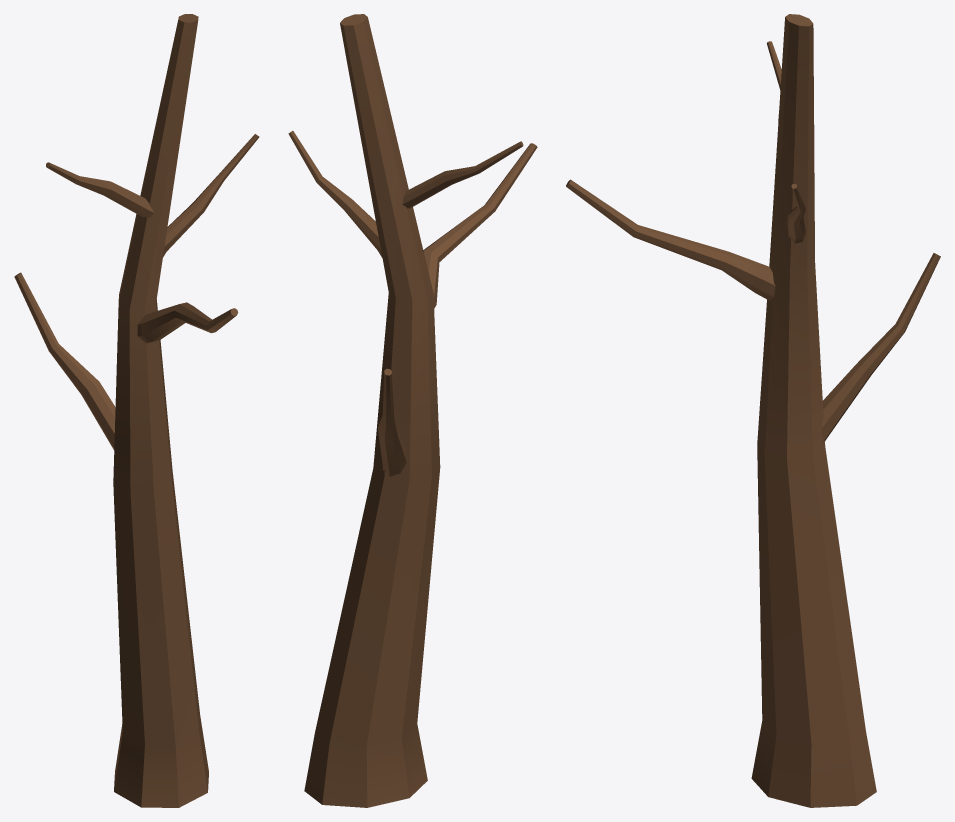
The model's file is prop_deadtree_03.fbx.
The picture shows the model from 3 angles, left to right: view 1: azimuth 30°, elevation 25°; view 2: azimuth 150°, elevation 25°; view 3: azimuth 270°, elevation 25°; orthographic projection. The views are drawn at different scales.
Visible parts, largest first — view 1: prop_deadtree_03; view 2: prop_deadtree_03; view 3: prop_deadtree_03.
Boxes of the visible parts, x1,y1,x2,y2 form: prop_deadtree_03: (14, 14, 259, 807); prop_deadtree_03: (288, 14, 537, 807); prop_deadtree_03: (566, 14, 940, 807).
Size of the model in its own units: 115 by 376 by 164.
